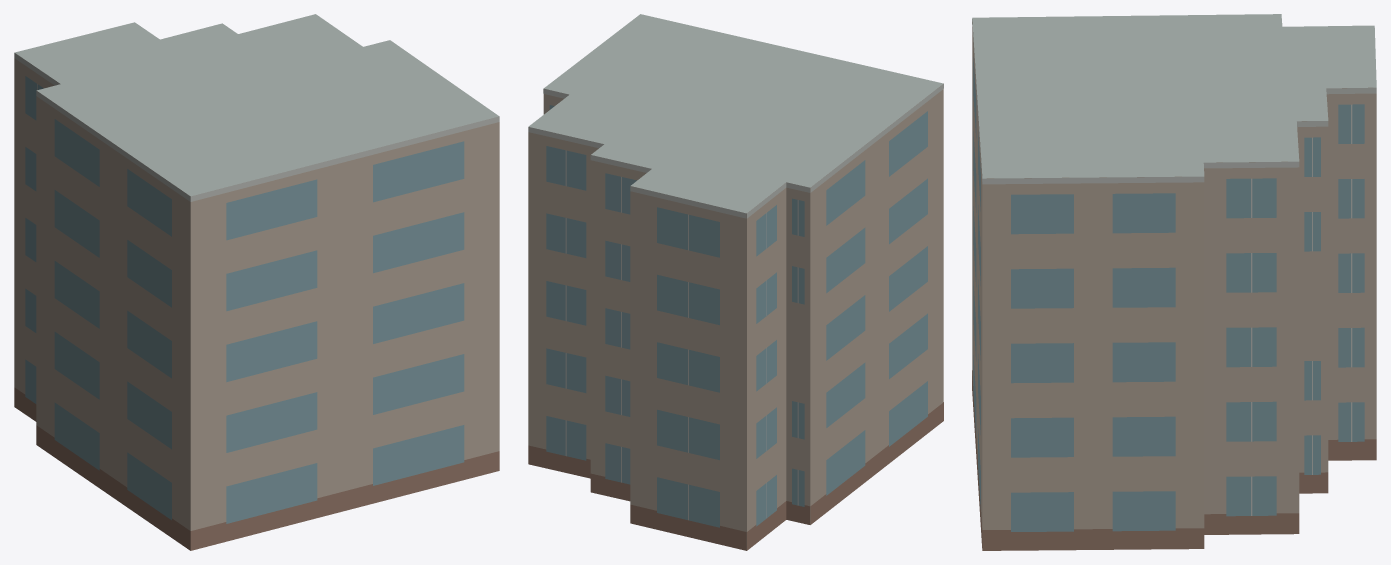
File: survey-upis-32978480.glb
3 views of the same model, side by side, from view 1: azimuth 30°, elevation 25°; view 2: azimuth 150°, elevation 25°; view 3: azimuth 270°, elevation 25° (orthographic). The views are drawn at different scales.
Parts seen in each view (by area): view 1: survey-upis-32978480.tmp; view 2: survey-upis-32978480.tmp; view 3: survey-upis-32978480.tmp.
Part boxes in pixels (<box>): survey-upis-32978480.tmp: <box>14,14,499,550</box>; survey-upis-32978480.tmp: <box>528,14,943,550</box>; survey-upis-32978480.tmp: <box>972,14,1376,550</box>.
Bounding box in the file's own units: 14.69 × 15.5 × 15.27.
